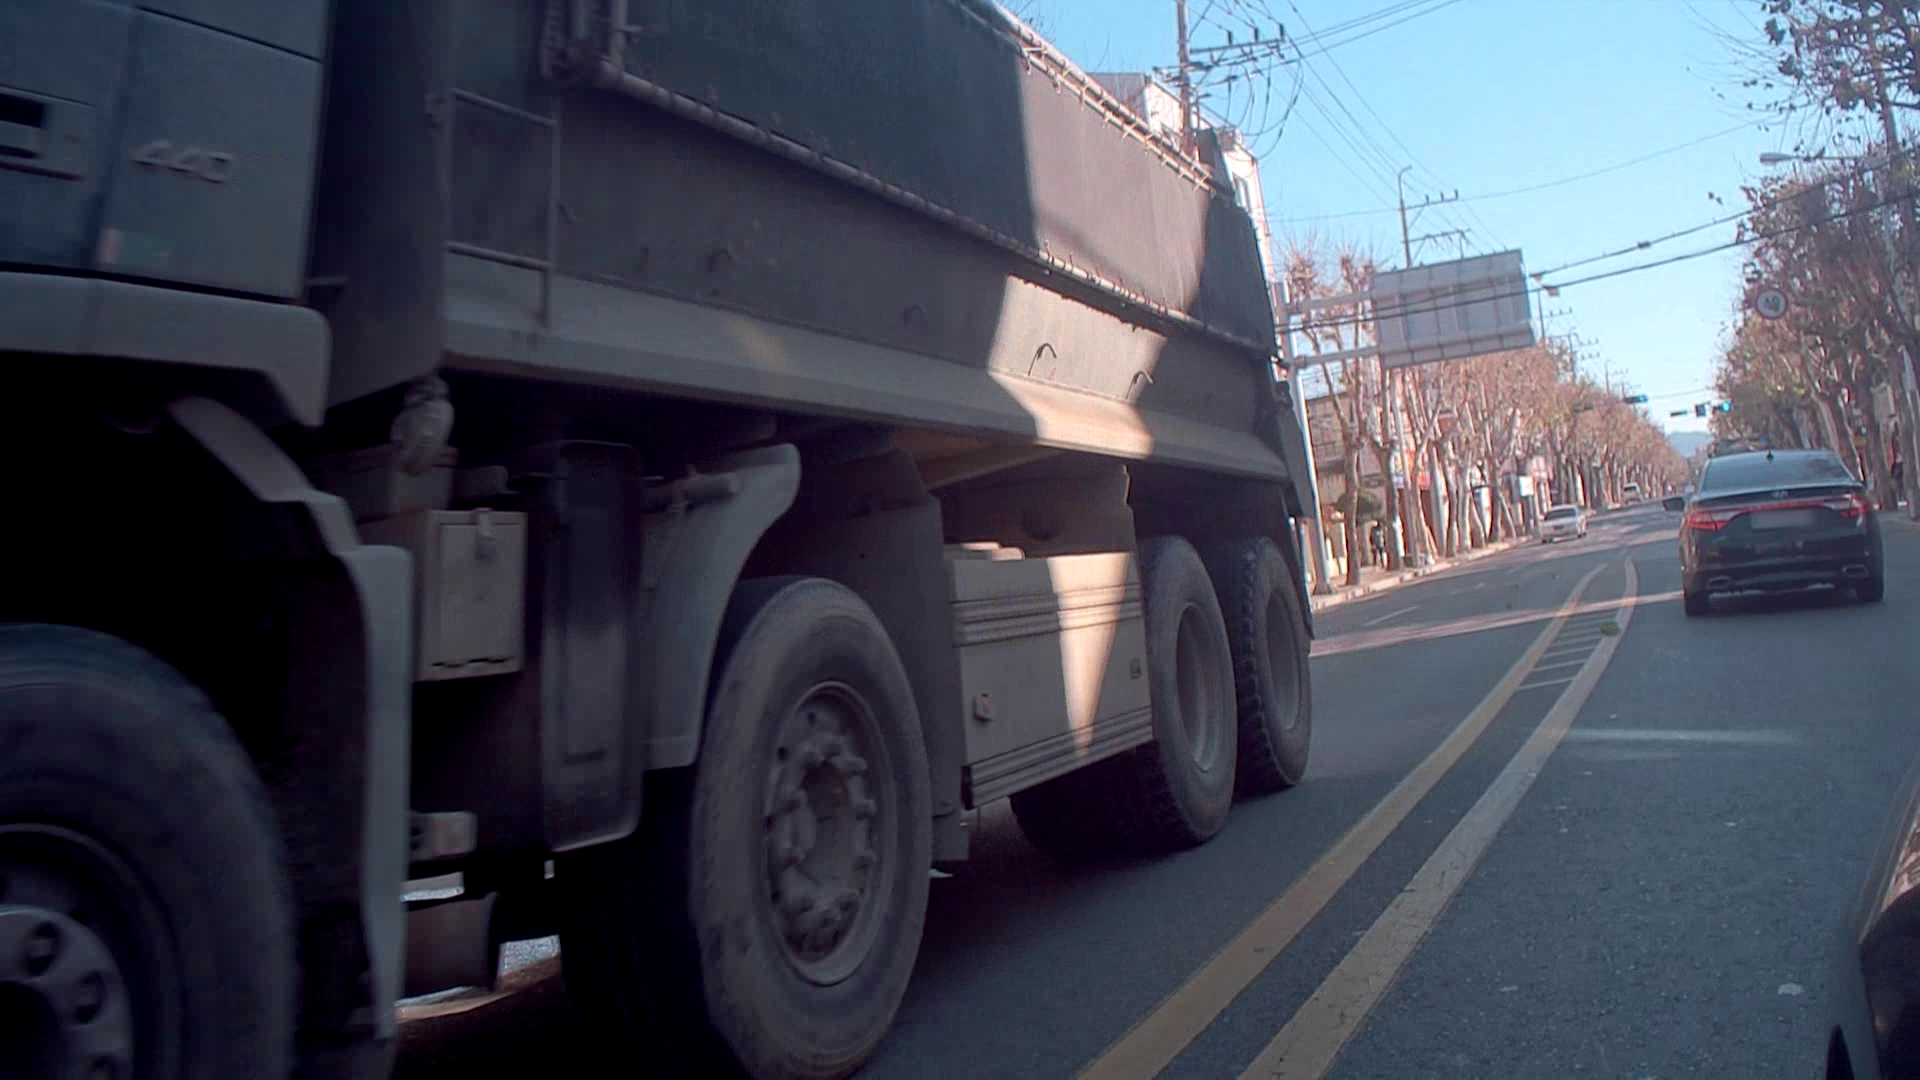trafficLight: (1706, 404, 1729, 415)
trafficSignCircle: (1756, 287, 1793, 322)
